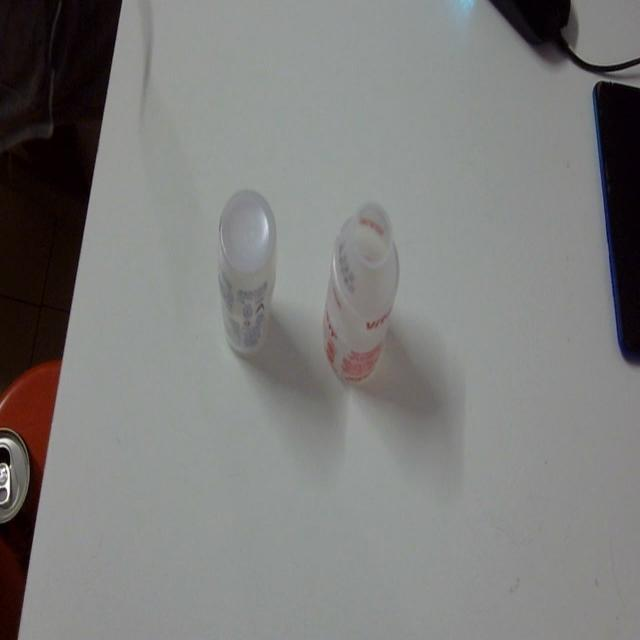plastic_standrotation: (320, 188, 404, 392), (208, 179, 291, 377)
